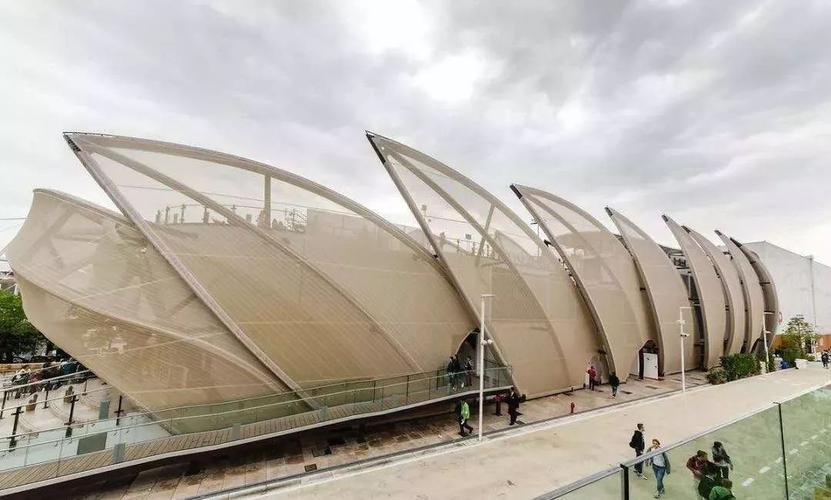buildings: (33, 141, 585, 458), (279, 158, 598, 415), (498, 191, 625, 407)
